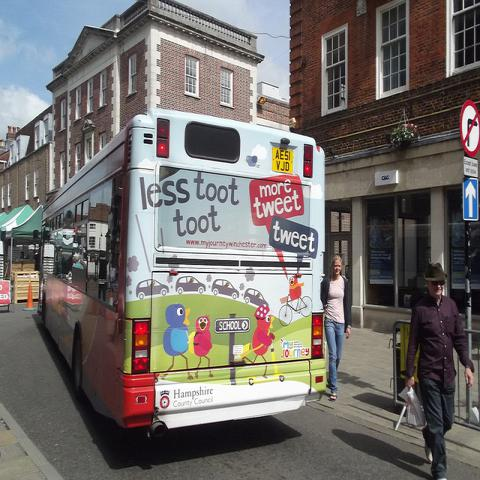bus: (33, 104, 332, 439)
